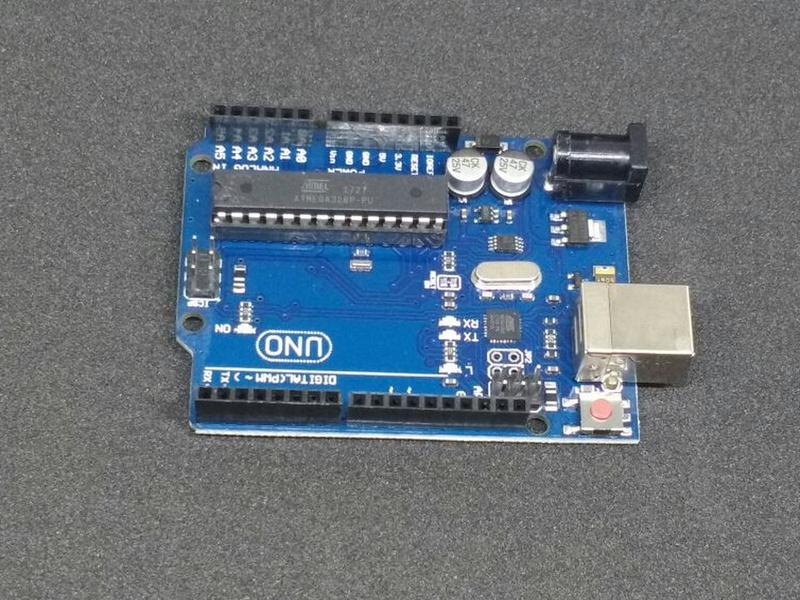Arduino UNO: (174, 97, 700, 467)
